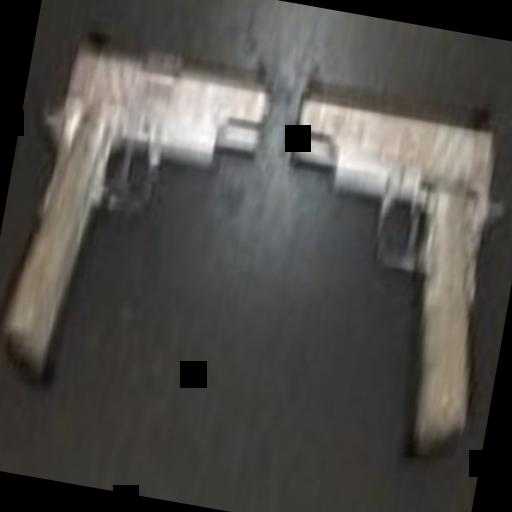Handgun: (0, 5, 281, 407), (243, 56, 512, 473)
